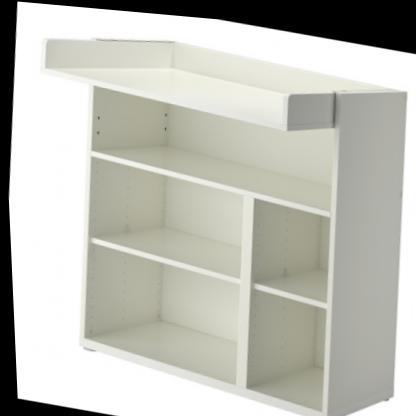Table: (5, 9, 416, 416)
